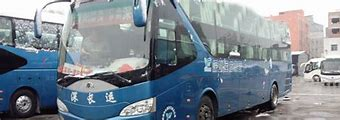bigcar: (28, 0, 300, 119)
